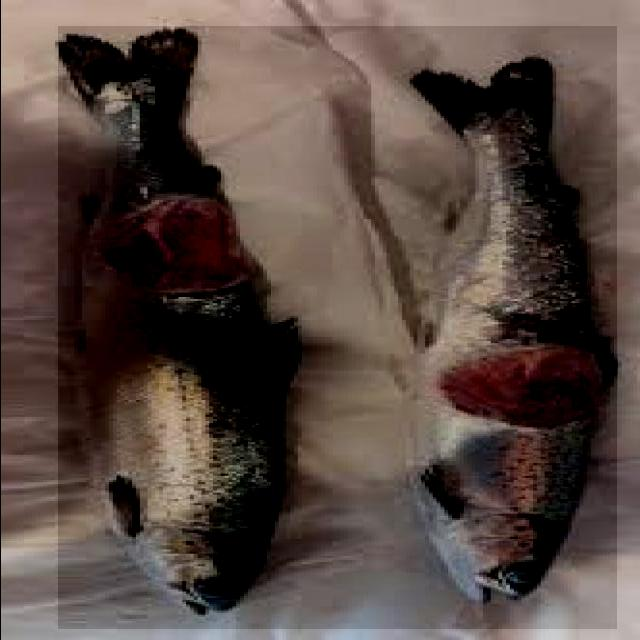EUS Disease: (57, 26, 616, 629), (423, 290, 616, 459), (74, 156, 256, 335)
